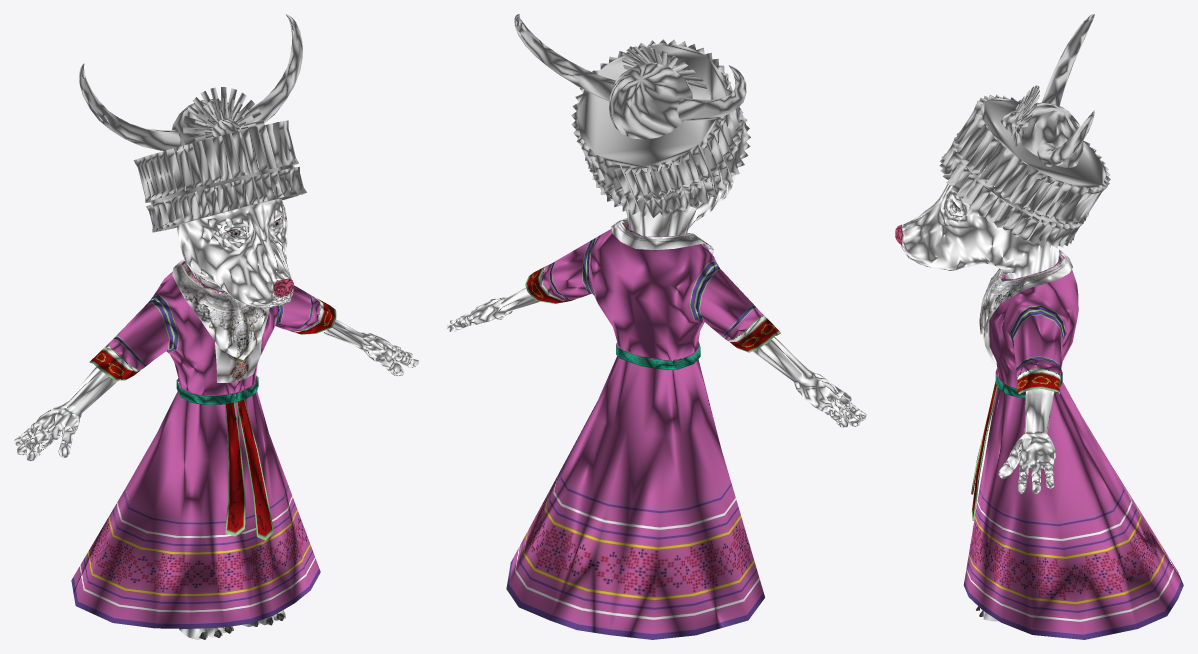
The model's file is xiasiquan_mu.obj.
The picture shows the model from 3 angles, left to right: view 1: azimuth 30°, elevation 25°; view 2: azimuth 150°, elevation 25°; view 3: azimuth 270°, elevation 25°; orthographic projection. The views are drawn at different scales.
Parts seen in each view (by area): view 1: ______006, Cylinder001, ______004, ______005, ______001, ______003, default0001; view 2: ______006, Cylinder001, ______005, ______004, ______001, ______003; view 3: ______006, Cylinder001, ______004, ______005, ______001, ______003.
Part boxes in pixels (box(x1,y1,x2,y2)): ______006: box(71, 261, 336, 628); Cylinder001: box(79, 14, 306, 232); ______004: box(177, 199, 293, 308); ______005: box(14, 319, 418, 461); ______001: box(172, 258, 269, 382); ______003: box(176, 375, 274, 540); default0001: box(179, 610, 285, 639); ______006: box(506, 221, 780, 639); Cylinder001: box(514, 14, 750, 217); ______005: box(447, 287, 866, 427); ______004: box(626, 175, 734, 236); ______001: box(611, 217, 714, 254); ______003: box(616, 341, 700, 370); ______006: box(963, 253, 1183, 639); Cylinder001: box(939, 14, 1110, 247); ______004: box(895, 183, 1059, 278); ______005: box(998, 389, 1055, 493); ______001: box(979, 250, 1072, 365); ______003: box(971, 368, 1062, 520).
Bounding box in the file's own units: 141 × 187 × 91.05.
